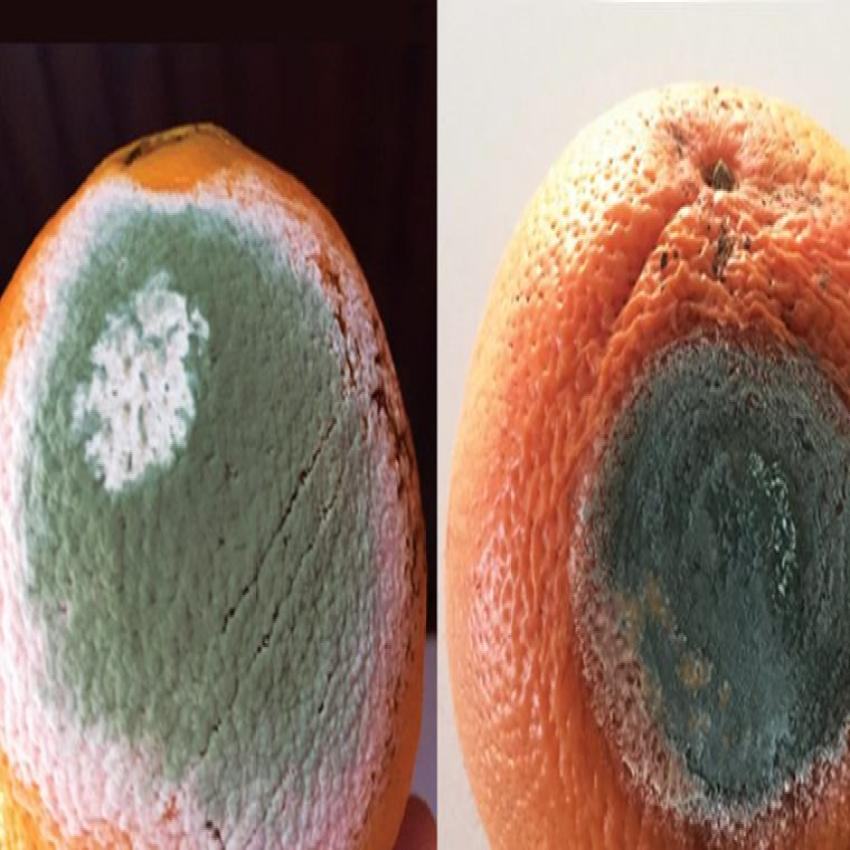Mal estado: (0, 114, 431, 848), (447, 67, 850, 850)
